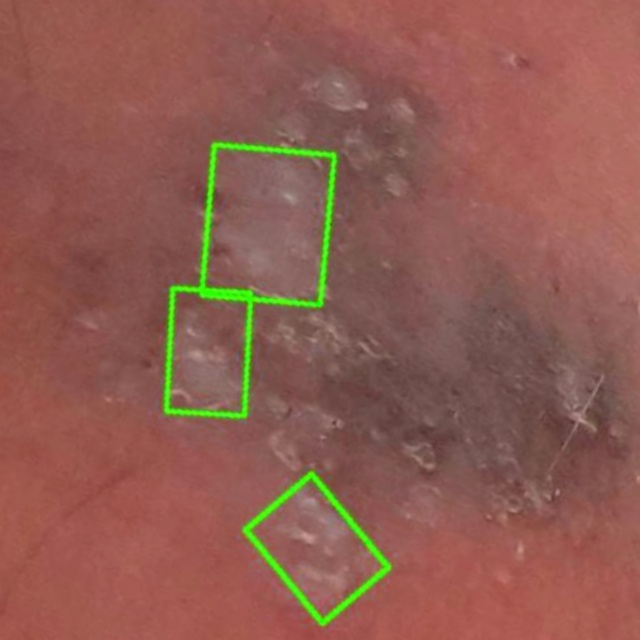Contact Dermatitis: (244, 473, 388, 621), (201, 144, 333, 304), (166, 287, 250, 414)
